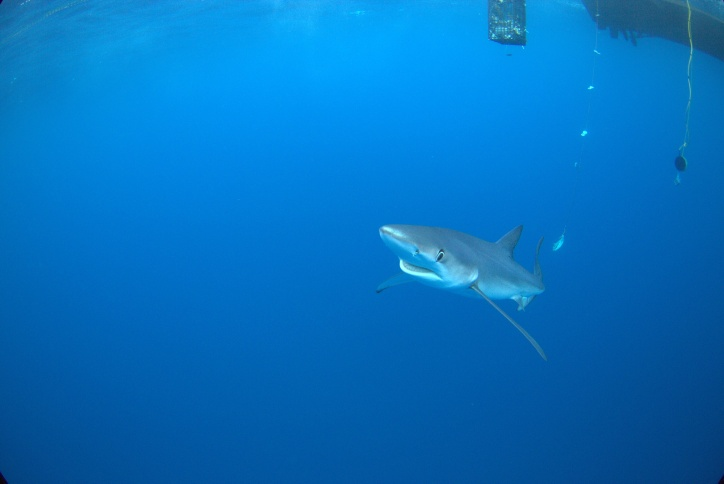Azul: (347, 202, 551, 353)
